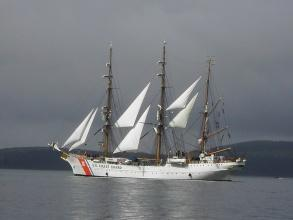fanchuan: (48, 39, 250, 178)
